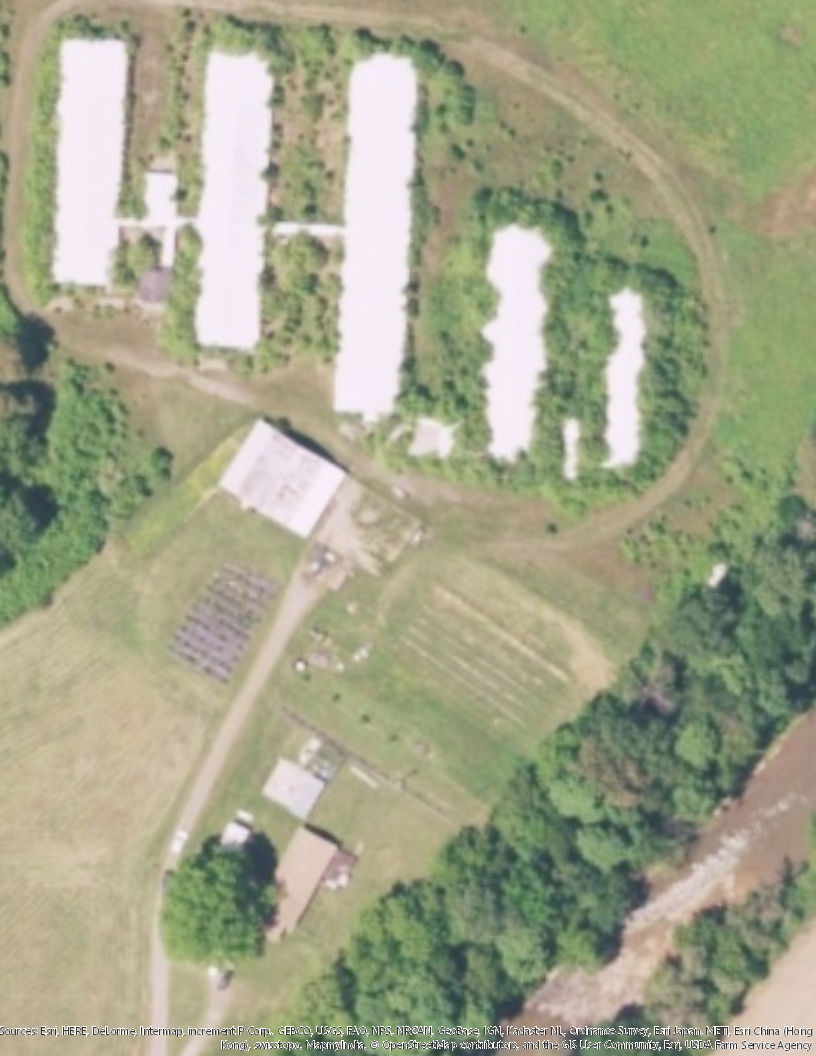cafo: (329, 49, 423, 421), (189, 48, 281, 350), (44, 40, 134, 290), (473, 212, 556, 470), (218, 415, 351, 544), (592, 280, 651, 469)
